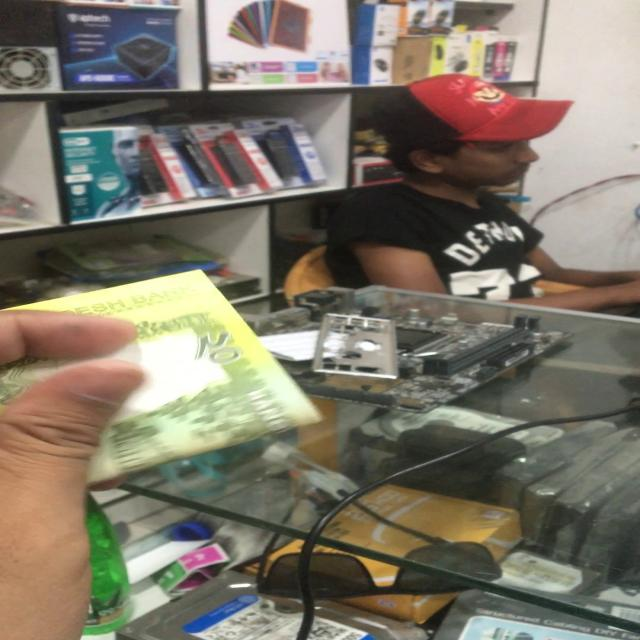Taka: (0, 272, 319, 479)
